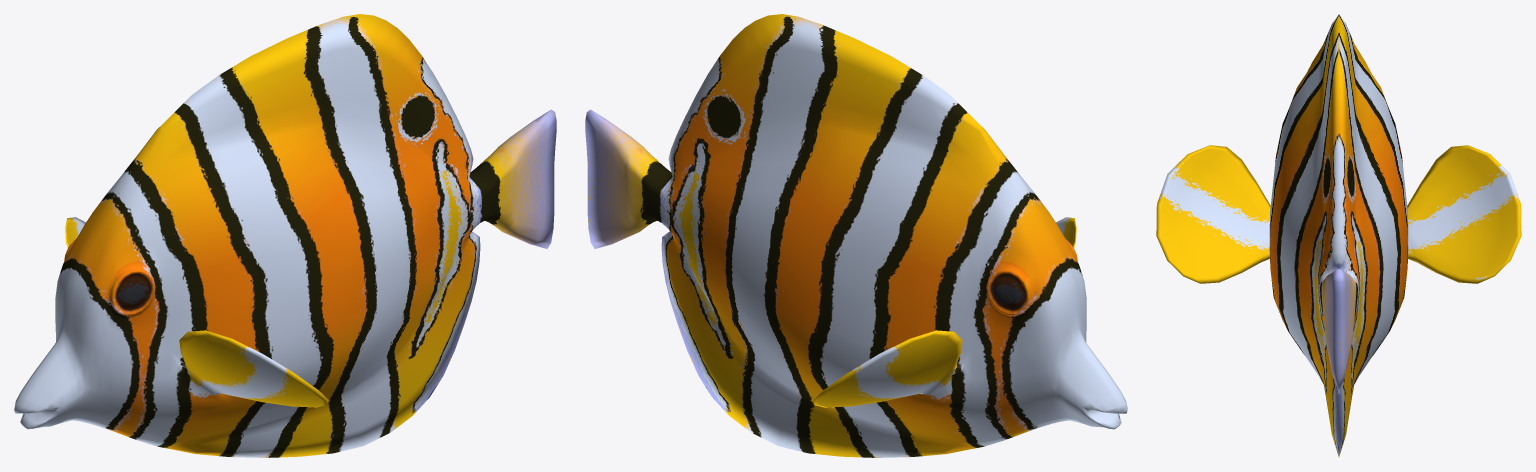
File: copperband_butterflyfish.glb
The picture shows the model from 3 angles, left to right: view 1: azimuth 30°, elevation 25°; view 2: azimuth 150°, elevation 25°; view 3: azimuth 270°, elevation 25°; orthographic projection. The views are drawn at different scales.
Visible parts, largest first — view 1: Fish; view 2: Fish; view 3: Fish.
Part boxes in pixels (bbox=[...]): Fish: bbox=[14, 14, 556, 457]; Fish: bbox=[585, 14, 1127, 457]; Fish: bbox=[1156, 14, 1521, 456].
Size of the model in its own units: 2 by 1.53 by 1.27.
1 material, 1 textured.
